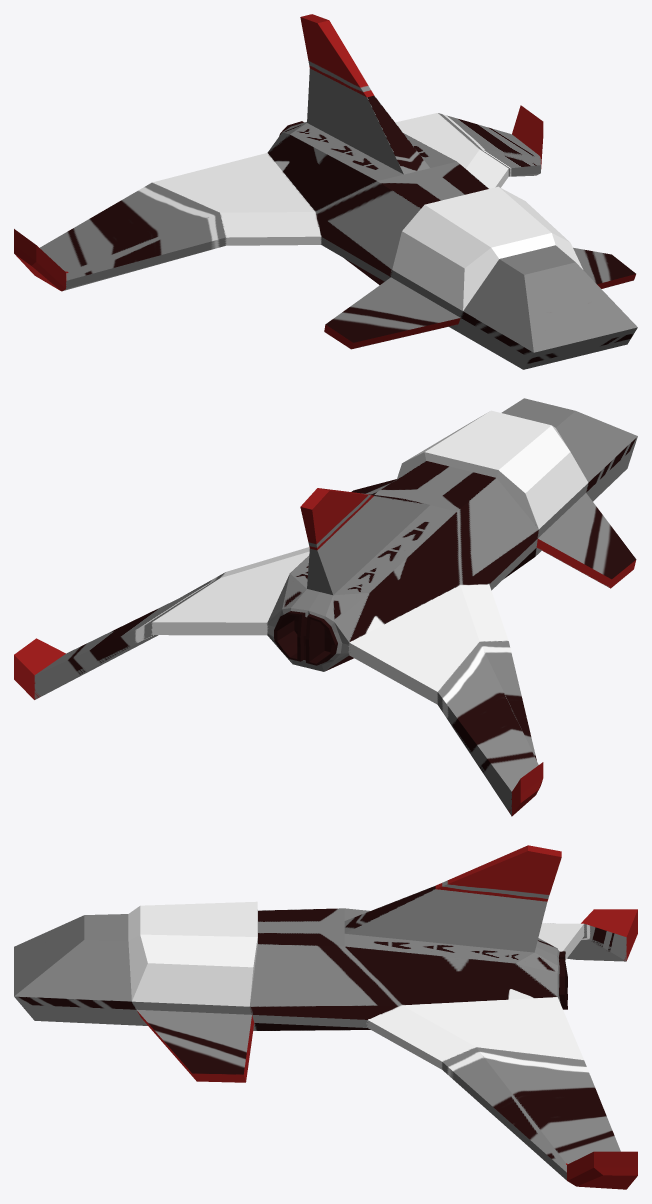
Rendered from Ship_2.fbx.
The picture shows the model from 3 angles, top to bottom: view 1: azimuth 30°, elevation 25°; view 2: azimuth 150°, elevation 25°; view 3: azimuth 270°, elevation 25°; orthographic projection. The views are drawn at different scales.
Visible parts, largest first — view 1: Cube; view 2: Cube; view 3: Cube.
Boxes of the visible parts, x1,y1,x2,y2 form: Cube: (14,14,637,369); Cube: (14,398,637,816); Cube: (14,845,637,1189).
Size of the model in its own units: 494 by 537 by 216.
